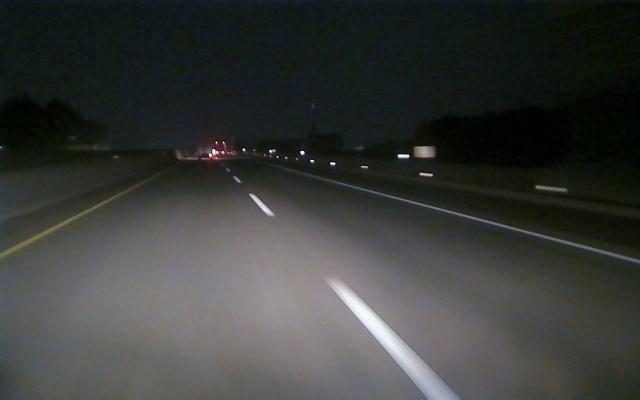lane: (250, 191, 465, 400), (372, 191, 638, 264), (1, 202, 103, 258)
